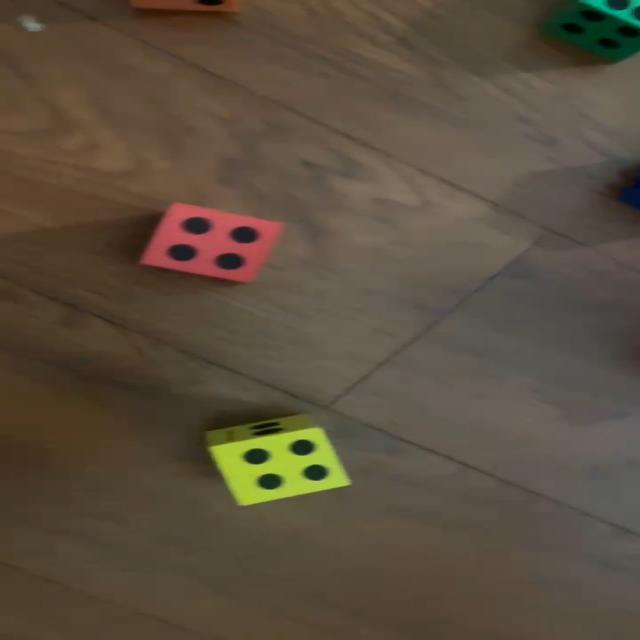red_block: (140, 202, 286, 284)
